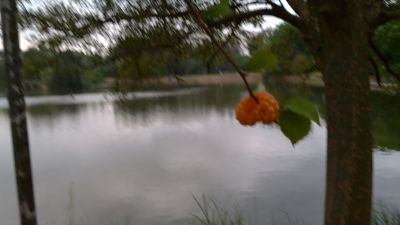eggs: (234, 89, 281, 129)
